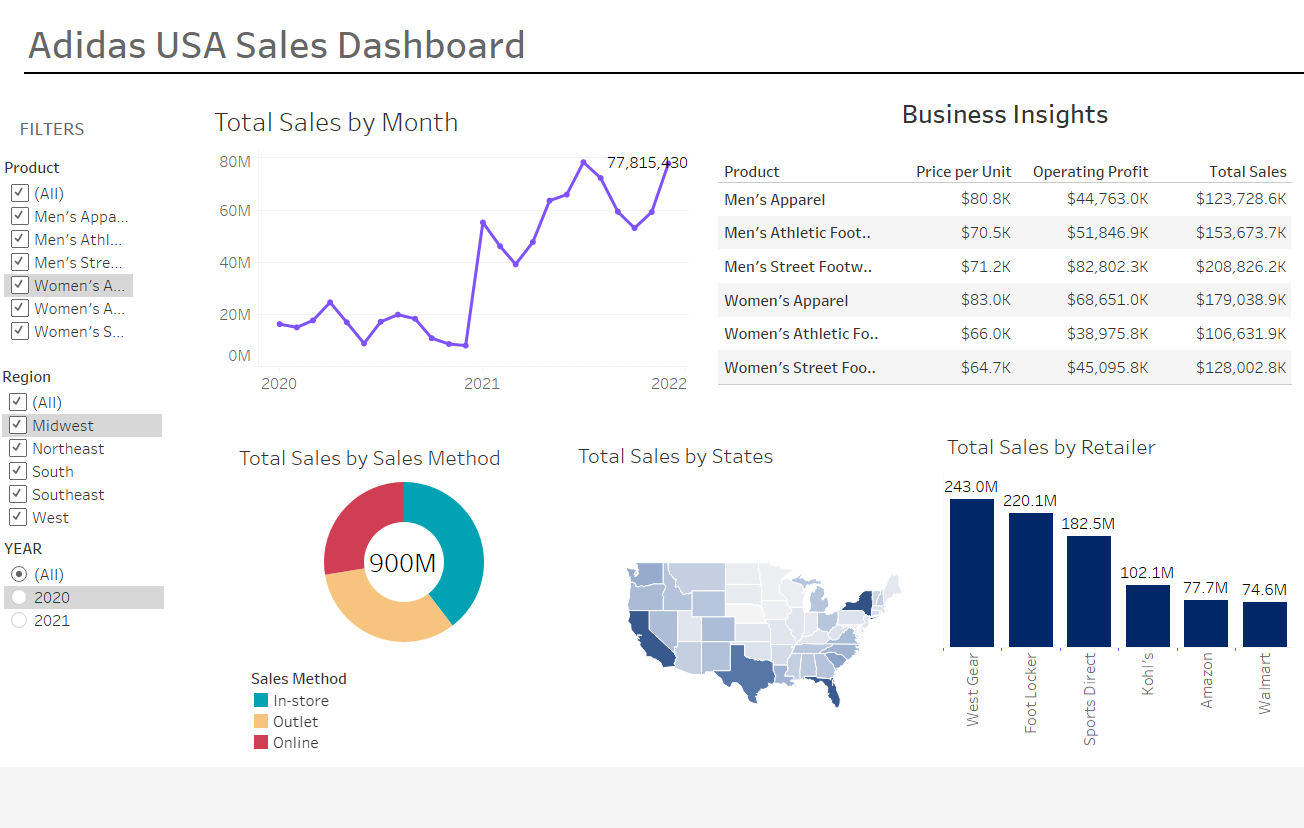

The page's visual inventory and layout, read from the dashboard file:
{"tool":"tableau","page":{"name":"Dashboard 1","canvas":[1366,768],"ordinal":0},"visuals":[{"type":"text","box":[20,20,1326,49]},{"type":"blank","box":[20,69,1326,10]},{"type":"worksheet","title":"Business Insights","mark":"Automatic","rows":["Product"],"box":[718,93,574,293]},{"type":"worksheet","title":"Total sales by Month","mark":"Automatic","rows":["Total Sales"],"cols":["Invoice Date"],"box":[210,101,479,296]},{"type":"text","box":[2,114,100,30]},{"type":"filter","title":"Total Sales by Sales Method","param":"[federated.130wkgt1wbw19d18b2uii0l86yuo].[none:Product:nk]","box":[4,158,129,189]},{"type":"filter","title":"Total Sales by Sales Method","param":"[federated.130wkgt1wbw19d18b2uii0l86yuo].[none:Region:nk]","box":[2,367,160,166]},{"type":"worksheet","title":"Total Sales by Retailer","mark":"Automatic","rows":["Total Sales"],"cols":["Retailer"],"box":[943,429,351,319]},{"type":"worksheet","title":"Total Sales by States","mark":"Automatic","box":[574,438,408,330]},{"type":"worksheet","title":"Total Sales by Sales Method","mark":"Pie","cols":["Calculation_808959148830535683","Calculation_808959148831678469"],"box":[235,440,338,311]},{"type":"filter","title":"Total Sales by Sales Method","param":"[federated.130wkgt1wbw19d18b2uii0l86yuo].[yr:Invoice Date:ok]","box":[4,539,160,97]},{"type":"legend","title":"Total Sales by Sales Method","param":"[federated.130wkgt1wbw19d18b2uii0l86yuo].[none:Sales Method:nk]","box":[251,669,137,85]}]}

Visuals, with their boxes on the page's 1366x768 design canvas (x1, y1, x2, y2). These are canvas units, not pixel positions in the 1304x828 screenshot, which may show the page scaled, cropped or inside an application window:
text: box=[20, 20, 1346, 69]
blank: box=[20, 69, 1346, 79]
"Business Insights" worksheet: box=[718, 93, 1292, 386]
"Total sales by Month" worksheet: box=[210, 101, 689, 397]
text: box=[2, 114, 102, 144]
"Total Sales by Sales Method" filter: box=[4, 158, 133, 347]
"Total Sales by Sales Method" filter: box=[2, 367, 162, 533]
"Total Sales by Retailer" worksheet: box=[943, 429, 1294, 748]
"Total Sales by States" worksheet: box=[574, 438, 982, 768]
"Total Sales by Sales Method" worksheet (Pie marks): box=[235, 440, 573, 751]
"Total Sales by Sales Method" filter: box=[4, 539, 164, 636]
"Total Sales by Sales Method" legend: box=[251, 669, 388, 754]
